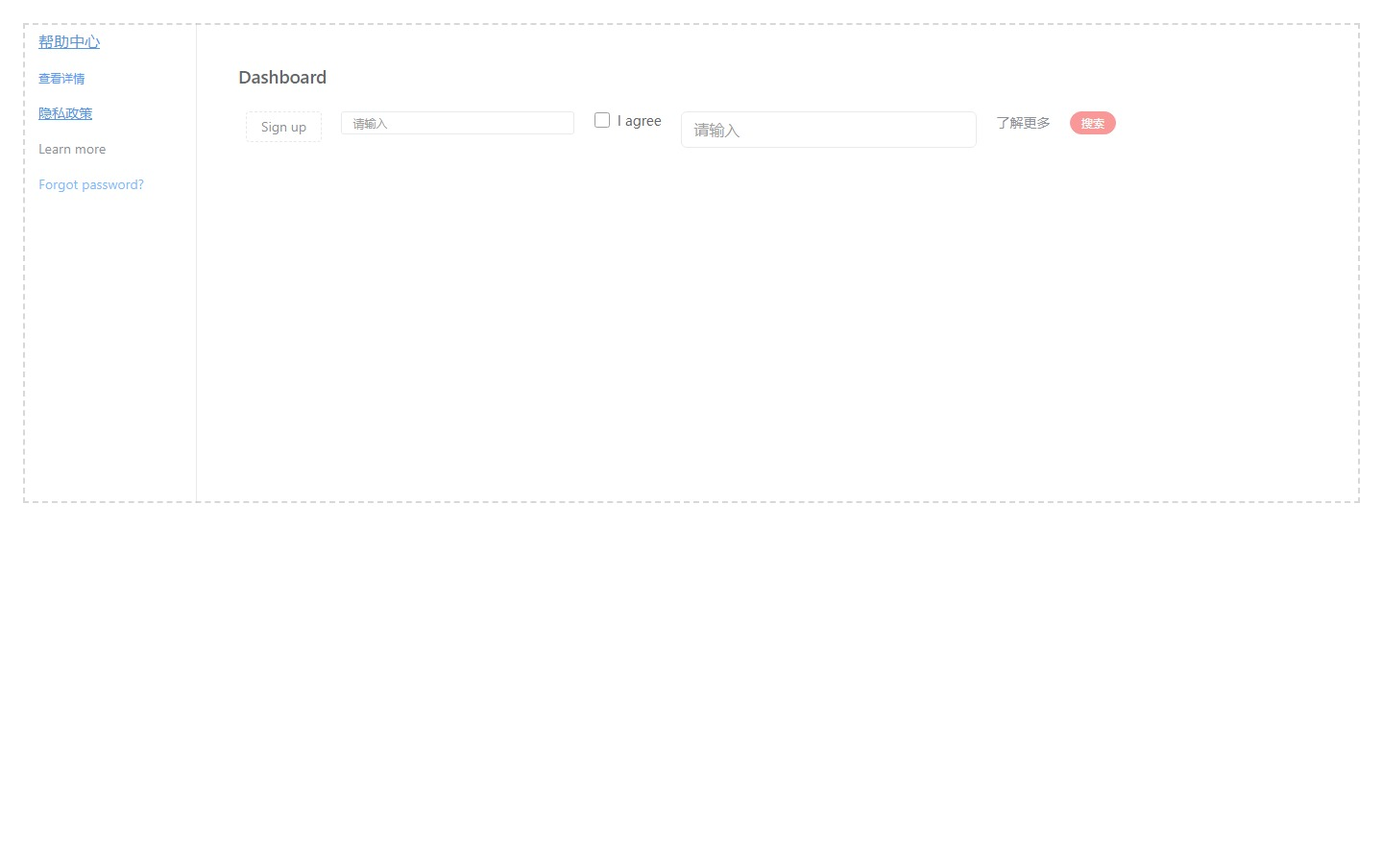button: (246, 111, 322, 142), (1070, 111, 1116, 134)
checkbox: (594, 113, 610, 128)
icon: (617, 111, 662, 129)
input: (681, 111, 977, 148), (341, 111, 575, 134)
link: (38, 175, 144, 193), (38, 31, 100, 51), (38, 139, 106, 157), (38, 104, 92, 122), (996, 113, 1050, 131), (38, 70, 85, 85)
modal: (23, 23, 1360, 503)
radio: (594, 111, 662, 129)
